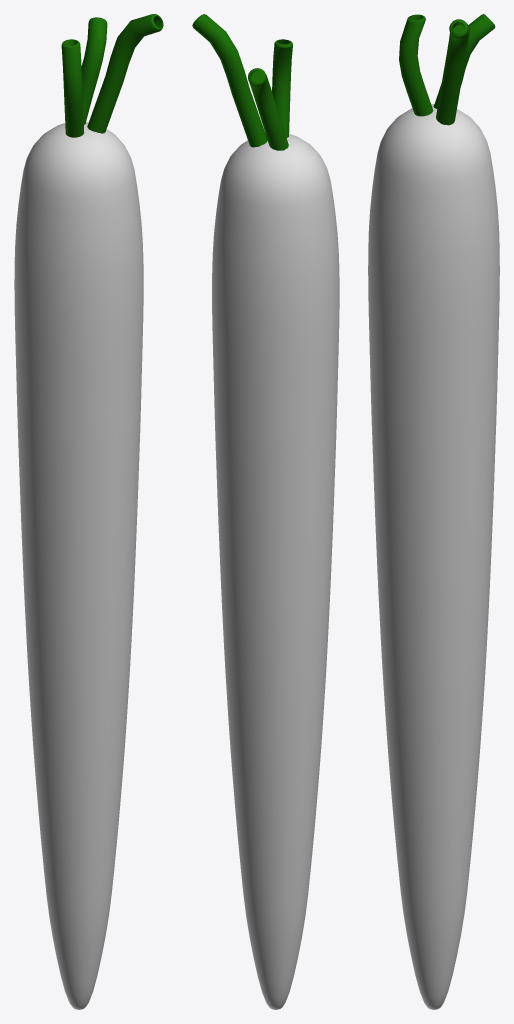
File: Carrot.fbx
3 views of the same model, side by side, from view 1: azimuth 30°, elevation 25°; view 2: azimuth 210°, elevation 25°; view 3: azimuth 330°, elevation 25° (orthographic). The views are drawn at different scales.
Visible parts, largest first — view 1: Carrot, Top; view 2: Carrot, Top; view 3: Carrot, Top.
Part boxes in pixels (x1,y1,x2,y2): Carrot: (14, 122, 143, 1009); Top: (61, 14, 163, 137); Carrot: (212, 134, 339, 1009); Top: (192, 14, 292, 150); Carrot: (368, 104, 499, 1009); Top: (399, 14, 495, 125).
Size of the model in its own units: 20.02 by 168 by 19.65.
